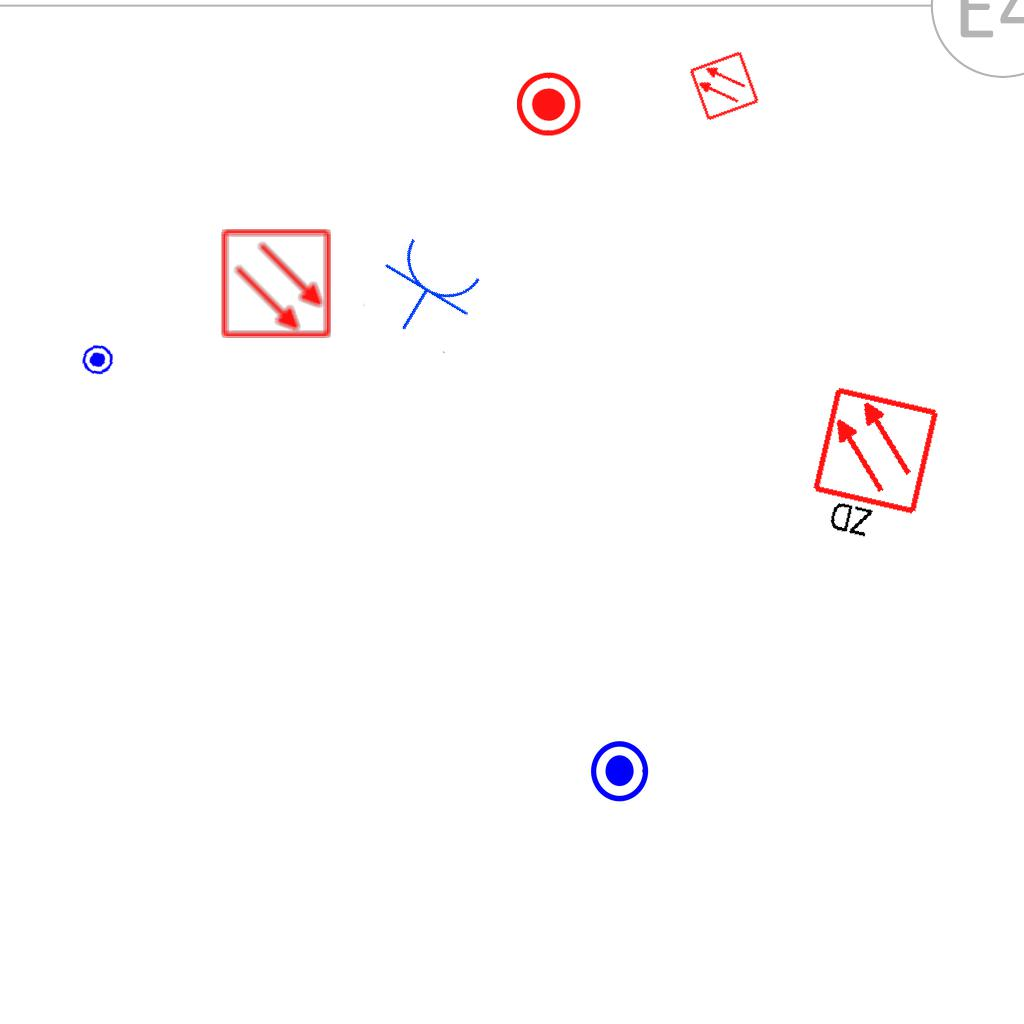RMO_Rauchmelder_optischer: (220, 227, 333, 340), (688, 50, 760, 122)
Schukosteckdose_einfach: (360, 229, 492, 356)
Taster: (517, 72, 583, 138), (589, 738, 655, 804), (79, 340, 116, 377)
ZD_Melder_in_Zwischendecke_mit_Revisionsoeffnung_mind_40_x_40_cm: (800, 384, 946, 555)
